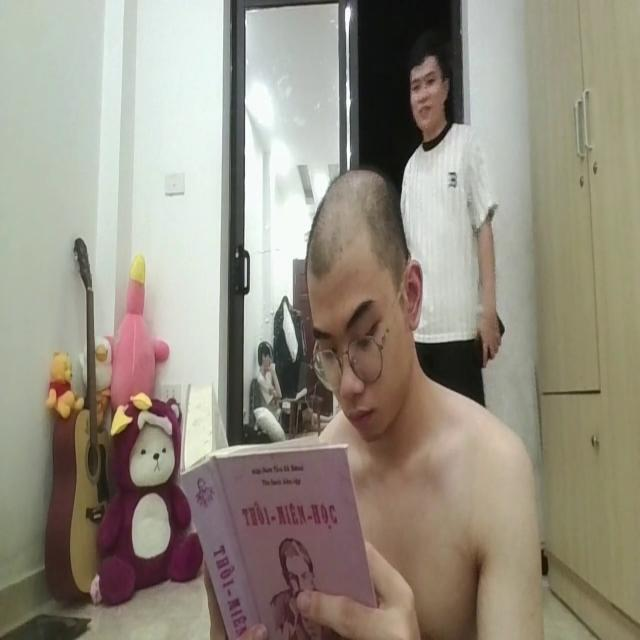book: (176, 375, 384, 640)
extra_person: (399, 38, 507, 437), (249, 327, 286, 434)
student: (290, 168, 544, 640)
